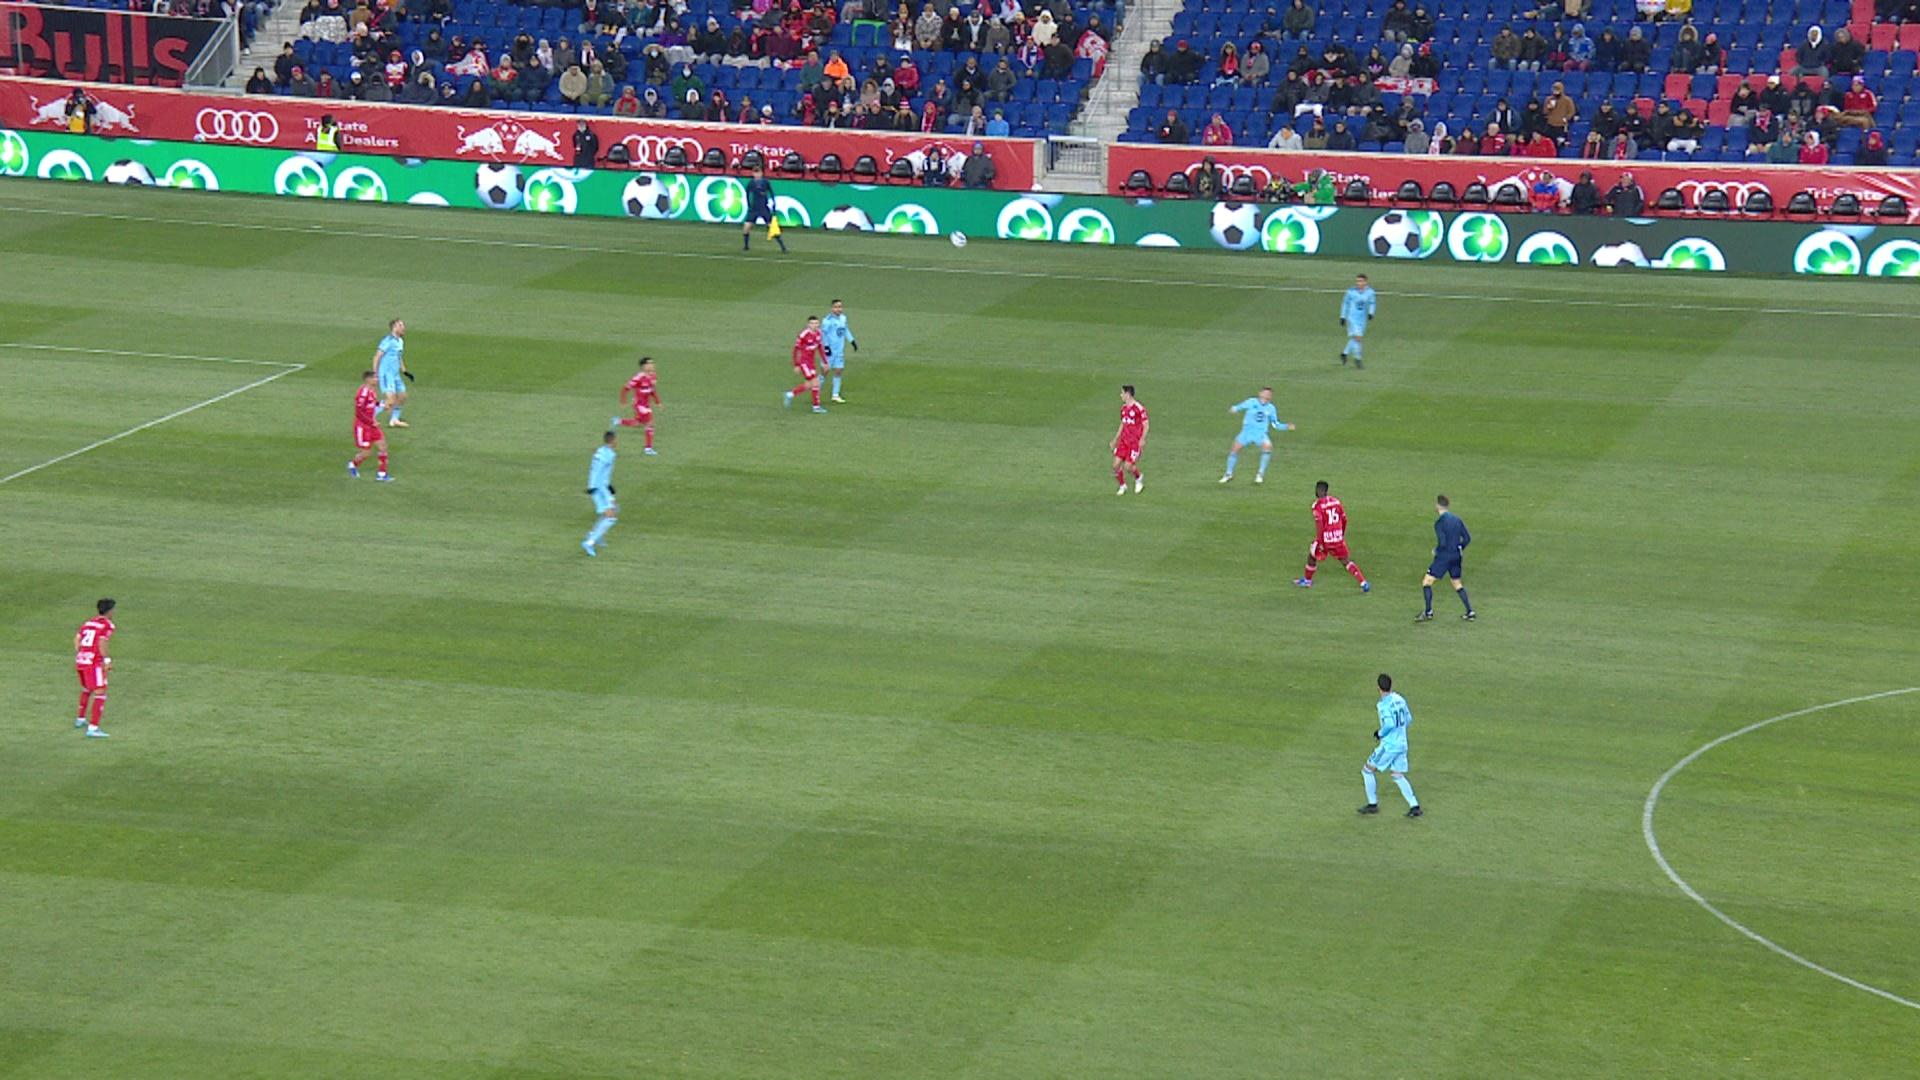football: (952, 232, 965, 248)
